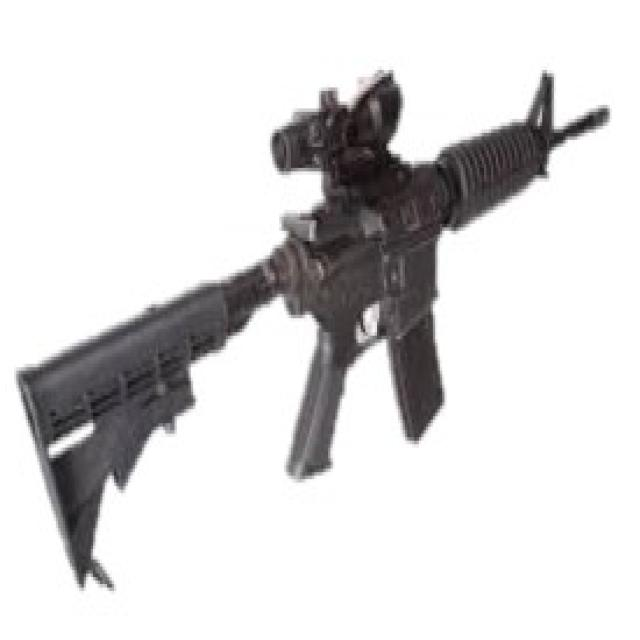rifle: (12, 48, 619, 613)
